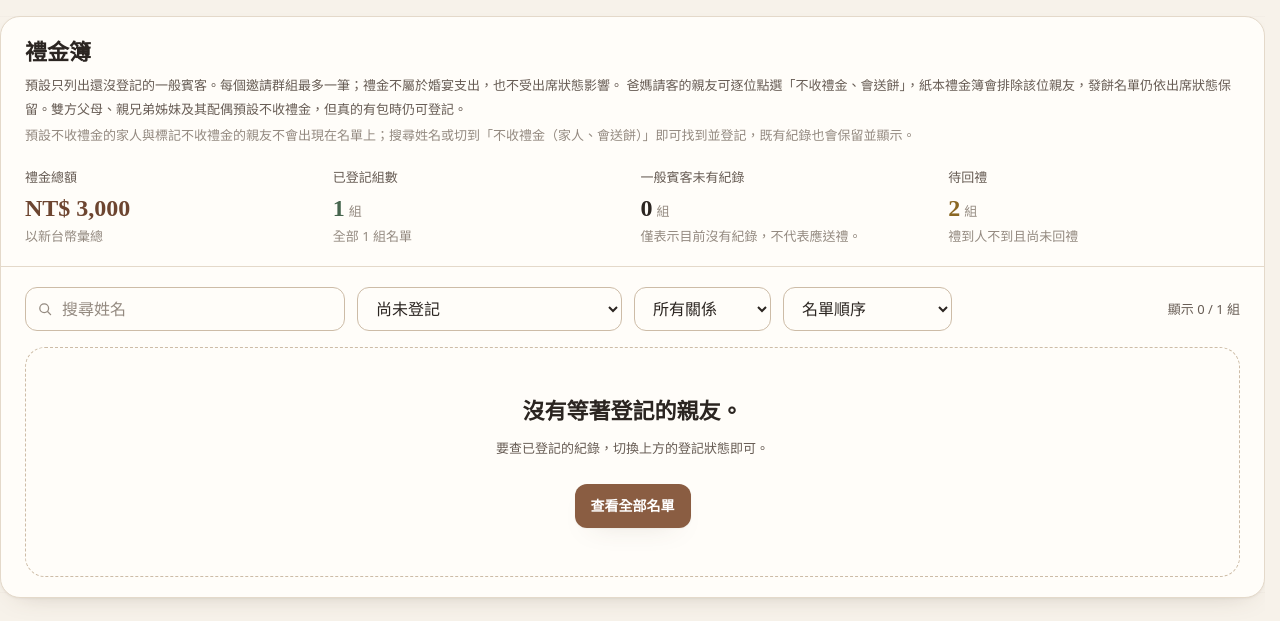
WeddingGiftBook › sums separate legacy gifts inside one household and keeps each editable
This screenshot has width=1280, height=621.
Select "全部（不含不收禮金）" in the dropdown named "禮金登記狀態篩選": point(490, 310) [357,288,622,332]
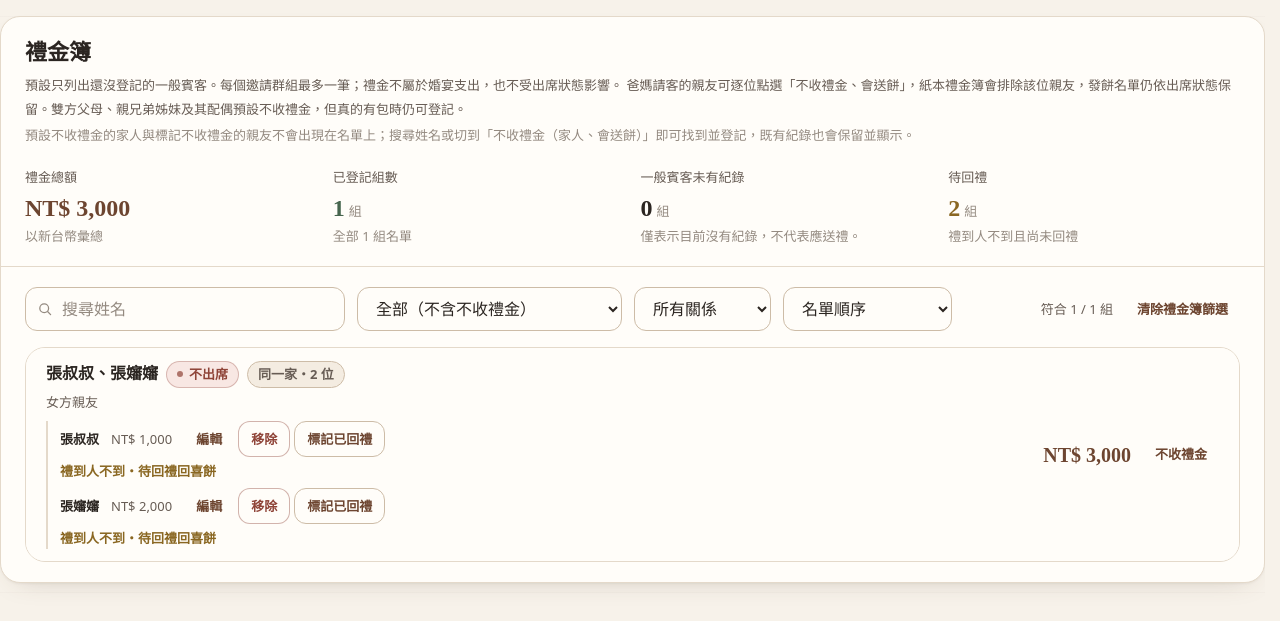
Now the text "NT$ 3,000" in the row of "NT$ 1,000" is shown, box [1043,444,1131,466]
Now the button with aria-label "編輯 張叔叔 的禮金" is shown, box [184,421,234,457]
Now the button with aria-label "編輯 張嬸嬸 的禮金" is shown, box [184,488,234,524]
